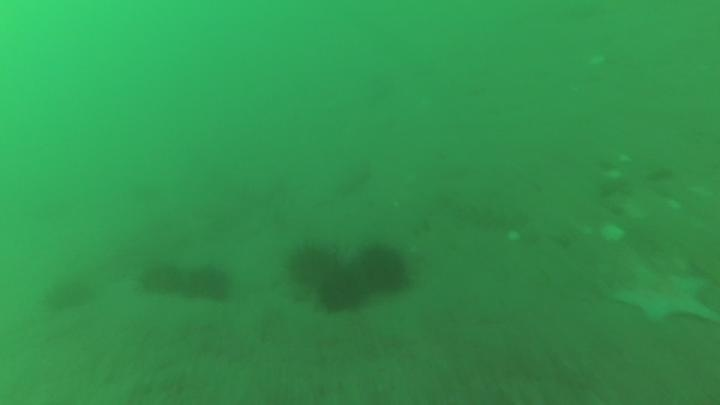echinus: (355, 242, 413, 297), (314, 264, 368, 315), (284, 240, 339, 290), (41, 274, 96, 314), (184, 262, 234, 305), (136, 259, 186, 299)
starfish: (608, 258, 719, 329)
